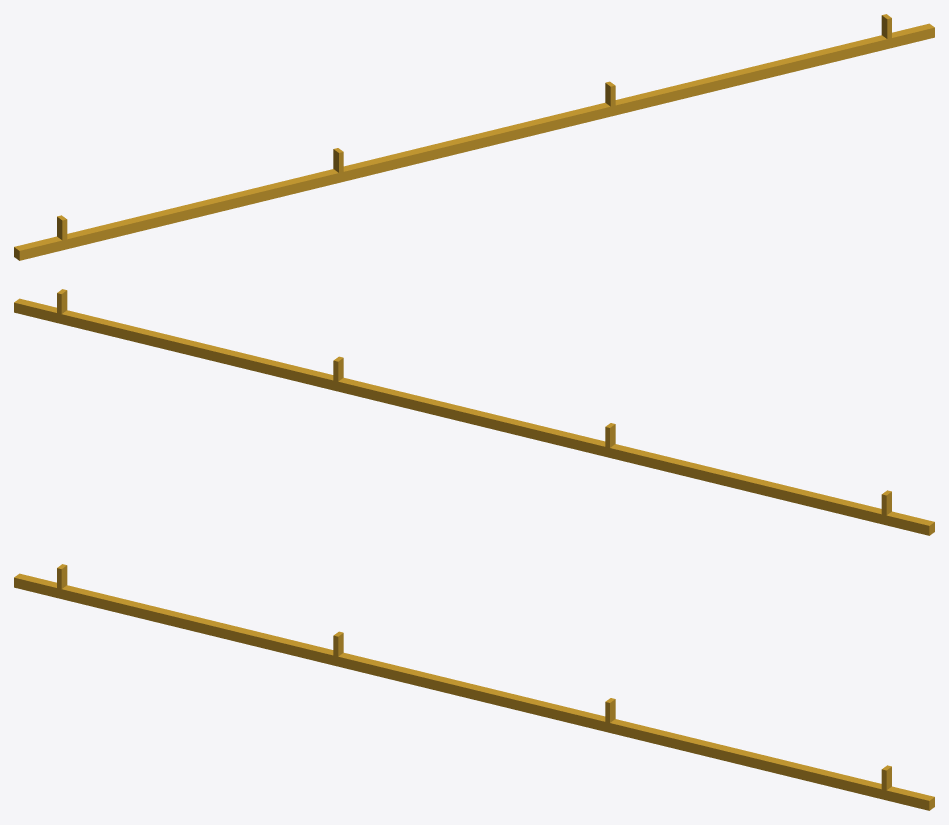
The model's file is city_bus_ceiling_rail.glb.
3 renders of one model, top to bottom at view 1: azimuth 30°, elevation 25°; view 2: azimuth 150°, elevation 25°; view 3: azimuth 330°, elevation 25°, orthographic.
Parts seen in each view (by area): view 1: body:compound; view 2: body:compound; view 3: body:compound.
Part boxes in pixels (x1,y1,x2,y2): body:compound: (14,14,934,260); body:compound: (14,289,934,535); body:compound: (14,564,934,810).
Bounding box in the file's own units: 6 × 0.1875 × 0.0625.
